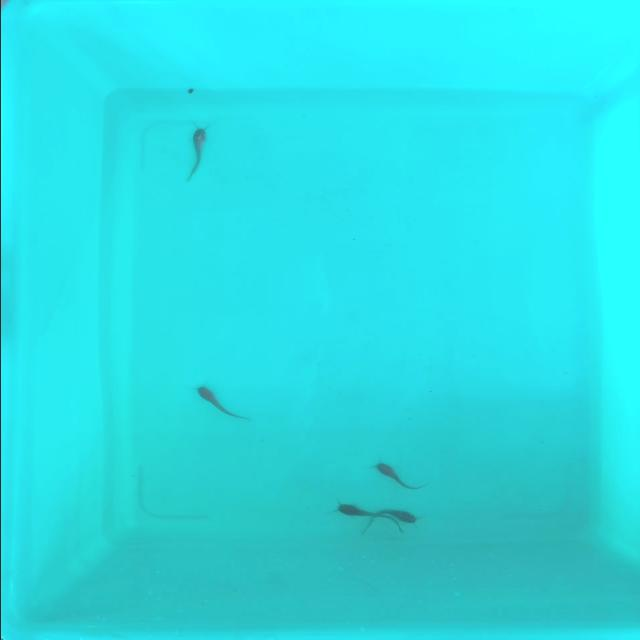lele: (190, 385, 246, 427), (368, 458, 424, 493), (362, 508, 420, 534), (186, 128, 206, 182), (334, 504, 384, 520)
